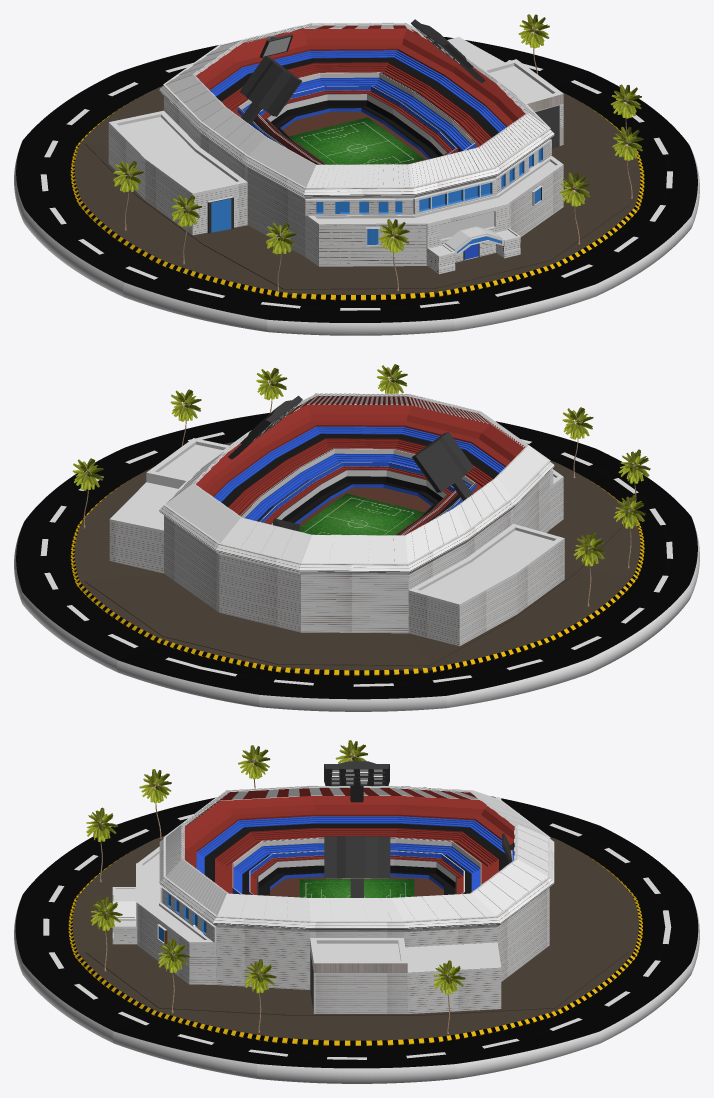
Rendered from estadio.fbx.
3 renders of one model, top to bottom at view 1: azimuth 30°, elevation 25°; view 2: azimuth 150°, elevation 25°; view 3: azimuth 270°, elevation 25°, orthographic.
Parts seen in each view (by area): view 1: Circle2; view 2: Circle2; view 3: Circle2.
Part boxes in pixels (x1,y1,x2,y2): Circle2: (14,14,699,335); Circle2: (14,364,699,711); Circle2: (14,740,699,1083).
Bounding box in the file's own units: 1730 × 405 × 1758.
